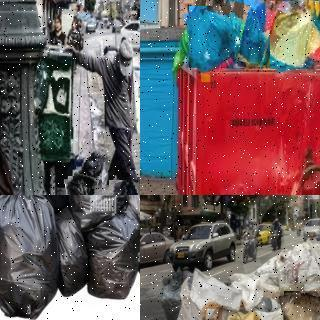Garbage: (0, 195, 56, 318), (85, 209, 140, 299), (186, 3, 248, 71), (267, 0, 320, 71), (222, 0, 275, 64), (53, 206, 85, 297), (70, 195, 129, 230), (281, 288, 320, 320), (75, 147, 105, 188), (128, 195, 140, 275), (66, 174, 103, 195)
